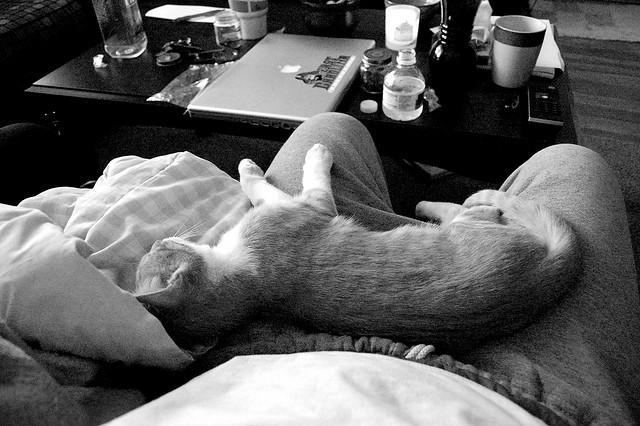phone: (531, 76, 560, 129)
tv: (221, 21, 359, 130)
